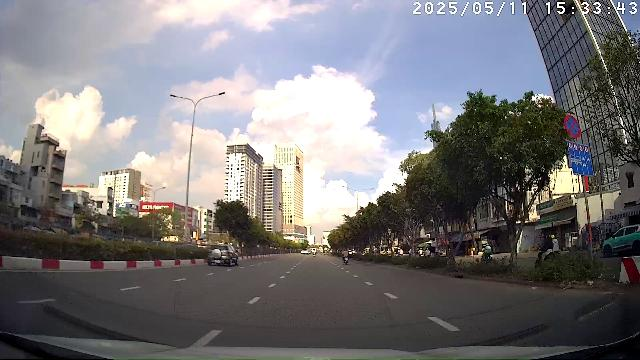130-cam-dung-va-do-xe: (564, 115, 582, 139)
